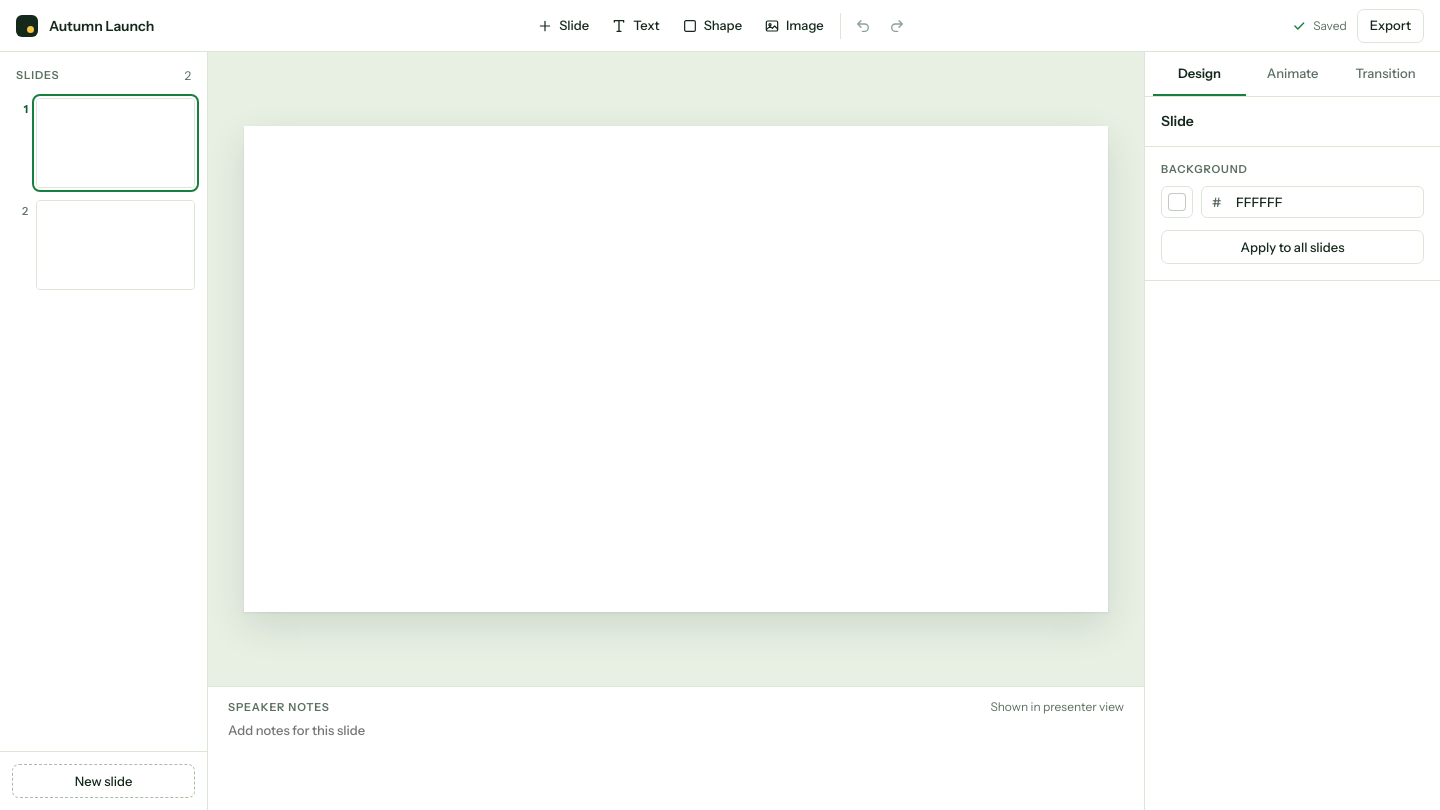
it: Given a slide after the first, When the Transition tab is opened, Then None, Fade, Slide, Push and Zoom are offered and None is the choice
expect the option named "Slide 1" is shown: met, box [12,98,195,188]
Click the option named "Slide 2" at (104, 245), box [12,200,195,290]
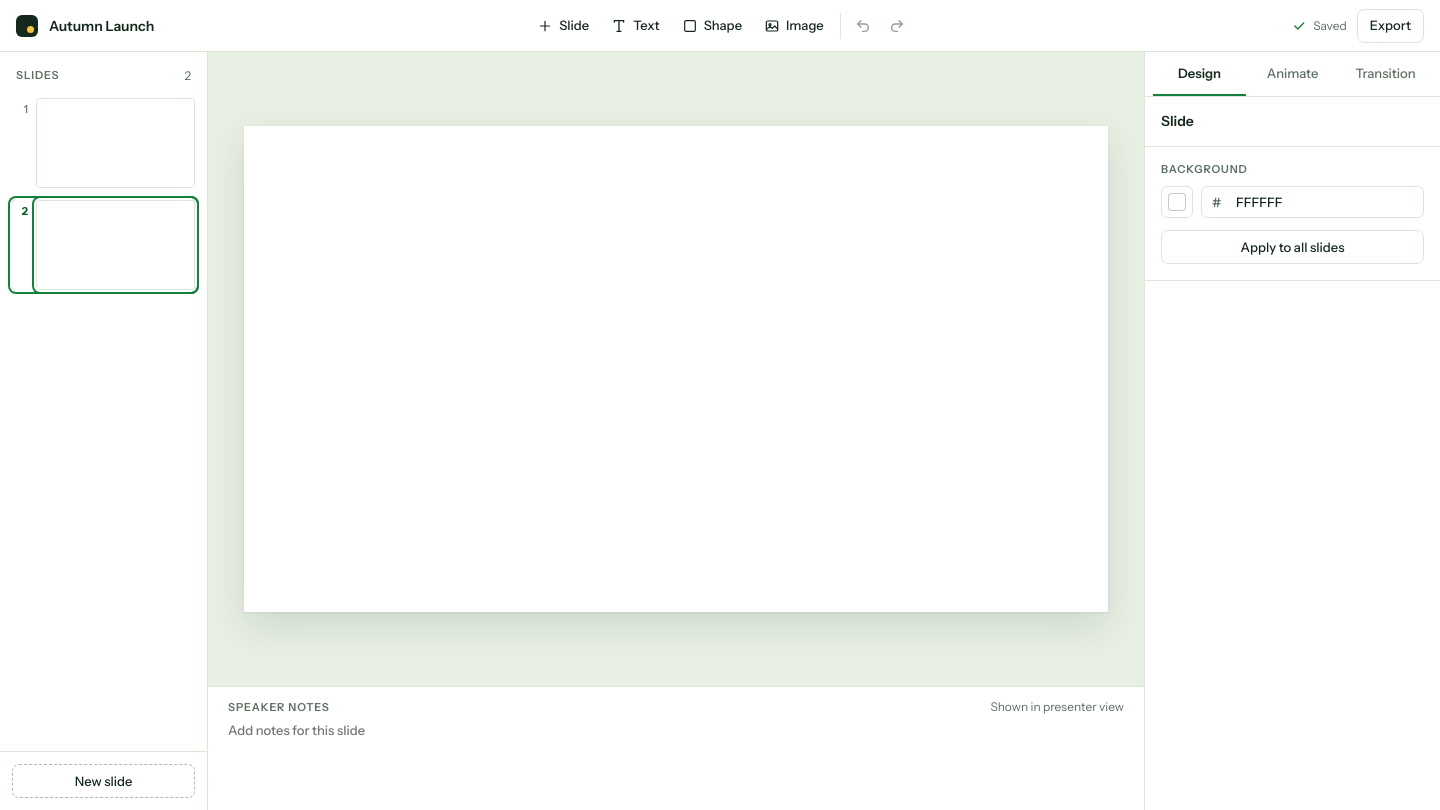
Click the tab "Transition" at (1386, 74), box [1339,52,1432,96]
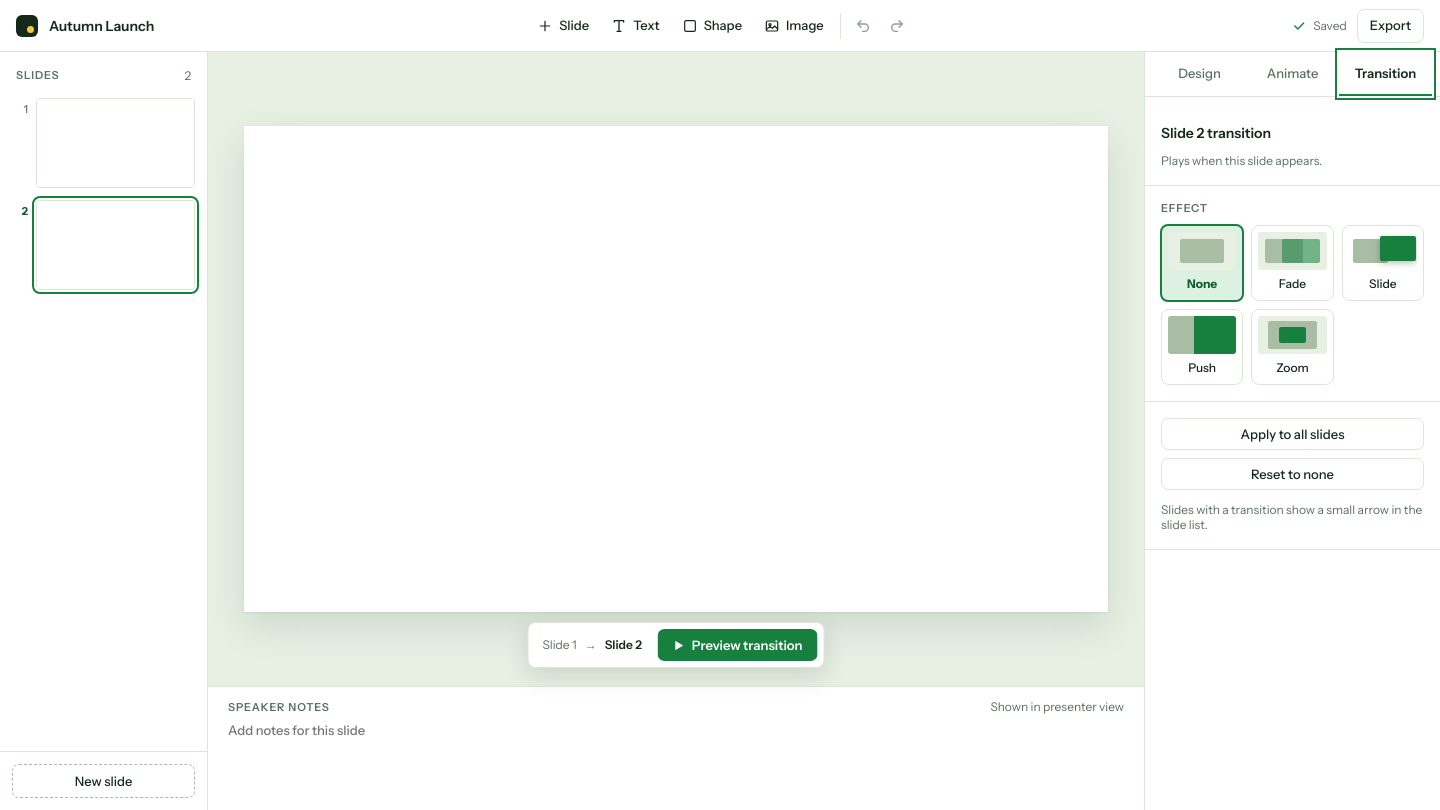
expect the heading "Slide 2 transition" is shown: met, box [1161,124,1271,142]
expect the button "None" is shown: met, box [1160,224,1244,302]
expect the button "Fade" is shown: met, box [1251,225,1334,301]
